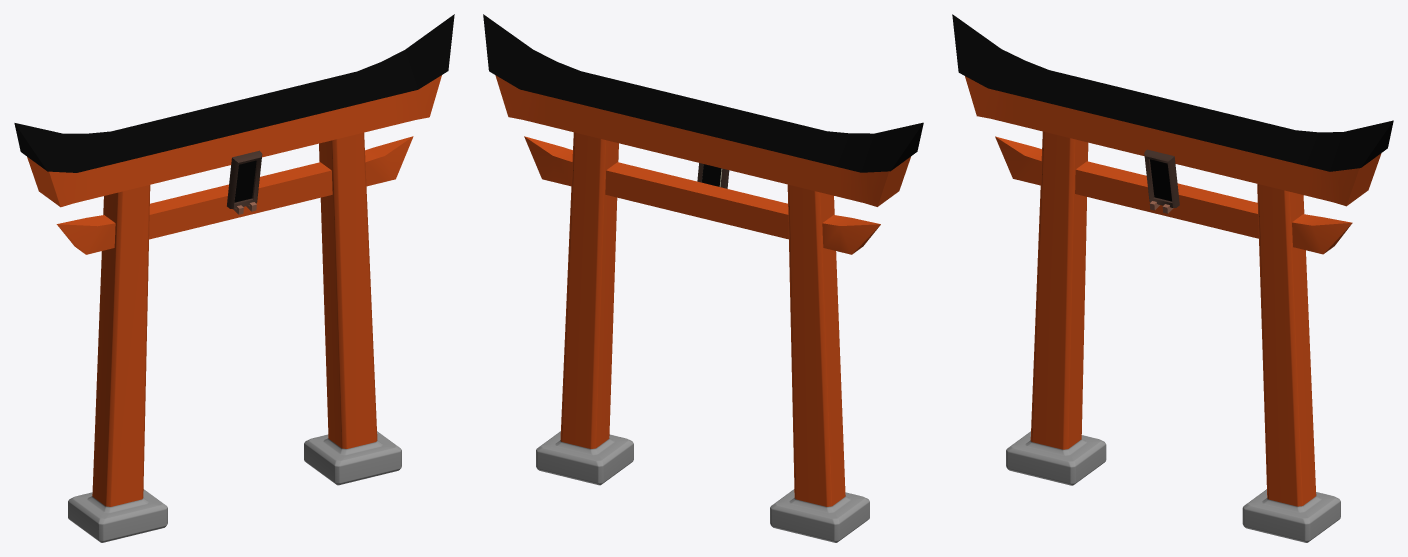
Rendered from torii_02.fbx.
3 renders of one model, left to right at view 1: azimuth 30°, elevation 25°; view 2: azimuth 150°, elevation 25°; view 3: azimuth 330°, elevation 25°, orthographic.
Parts seen in each view (by area): view 1: pCube10, pCube4, pCube3, pCube5; view 2: pCube10, pCube4, pCube3, pCube5; view 3: pCube10, pCube4, pCube3, pCube5.
Boxes of the visible parts, <box> form: pCube10: <box>68,132,401,542</box>; pCube4: <box>14,14,454,207</box>; pCube3: <box>56,136,413,254</box>; pCube5: <box>227,150,262,209</box>; pCube10: <box>536,132,869,542</box>; pCube4: <box>483,14,923,206</box>; pCube3: <box>524,136,880,254</box>; pCube5: <box>697,163,729,188</box>; pCube10: <box>1006,131,1340,542</box>; pCube4: <box>952,14,1393,206</box>; pCube3: <box>995,136,1352,254</box>; pCube5: <box>1144,149,1179,207</box>.
Bounding box in the file's own units: 18.85 × 17.51 × 2.55.
1 material, 1 textured.
